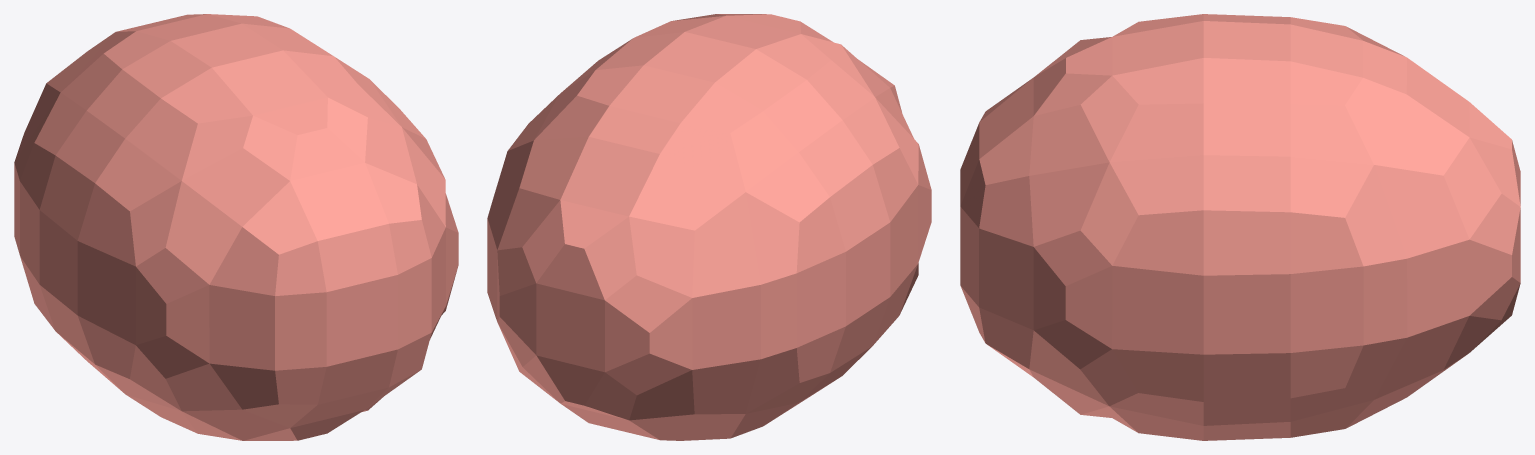
The model's file is brain_low3.fbx.
3 renders of one model, left to right at view 1: azimuth 30°, elevation 25°; view 2: azimuth 150°, elevation 25°; view 3: azimuth 270°, elevation 25°, orthographic. The views are drawn at different scales.
Visible parts, largest first — view 1: Low; view 2: Low; view 3: Low.
Part boxes in pixels (x1,y1,x2,y2): Low: [14, 14, 458, 440]; Low: [487, 14, 931, 440]; Low: [960, 14, 1520, 440].
Bounding box in the file's own units: 191 × 191 × 257.
